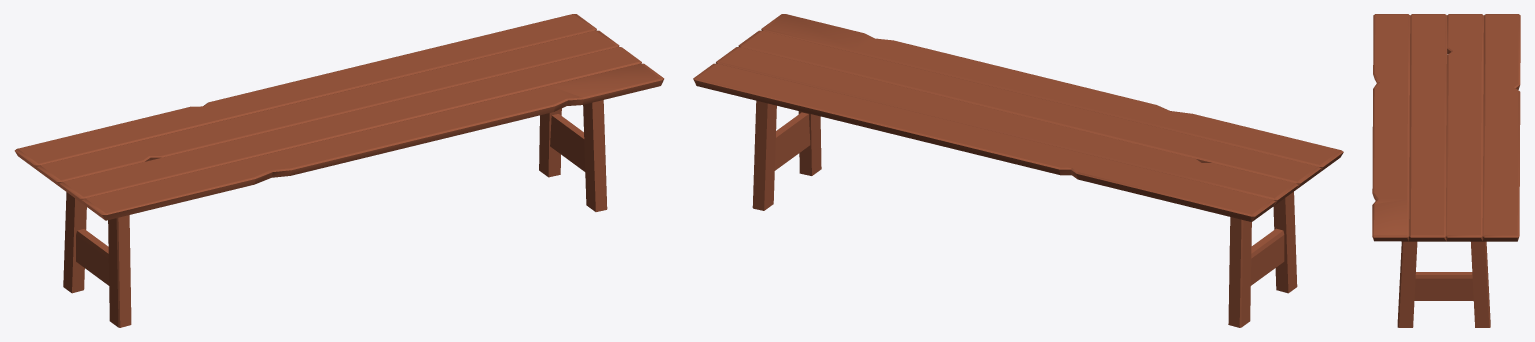
The model's file is table_1.fbx.
3 views of the same model, side by side, from view 1: azimuth 30°, elevation 25°; view 2: azimuth 150°, elevation 25°; view 3: azimuth 270°, elevation 25° (orthographic). The views are drawn at different scales.
Visible parts, largest first — view 1: table-1; view 2: table-1; view 3: table-1.
Part boxes in pixels (box(x1,y1,x2,y2)): table-1: box(14, 14, 664, 327); table-1: box(693, 14, 1343, 327); table-1: box(1372, 14, 1520, 327).
Size of the model in its own units: 9.79 by 2.2 by 2.75.
